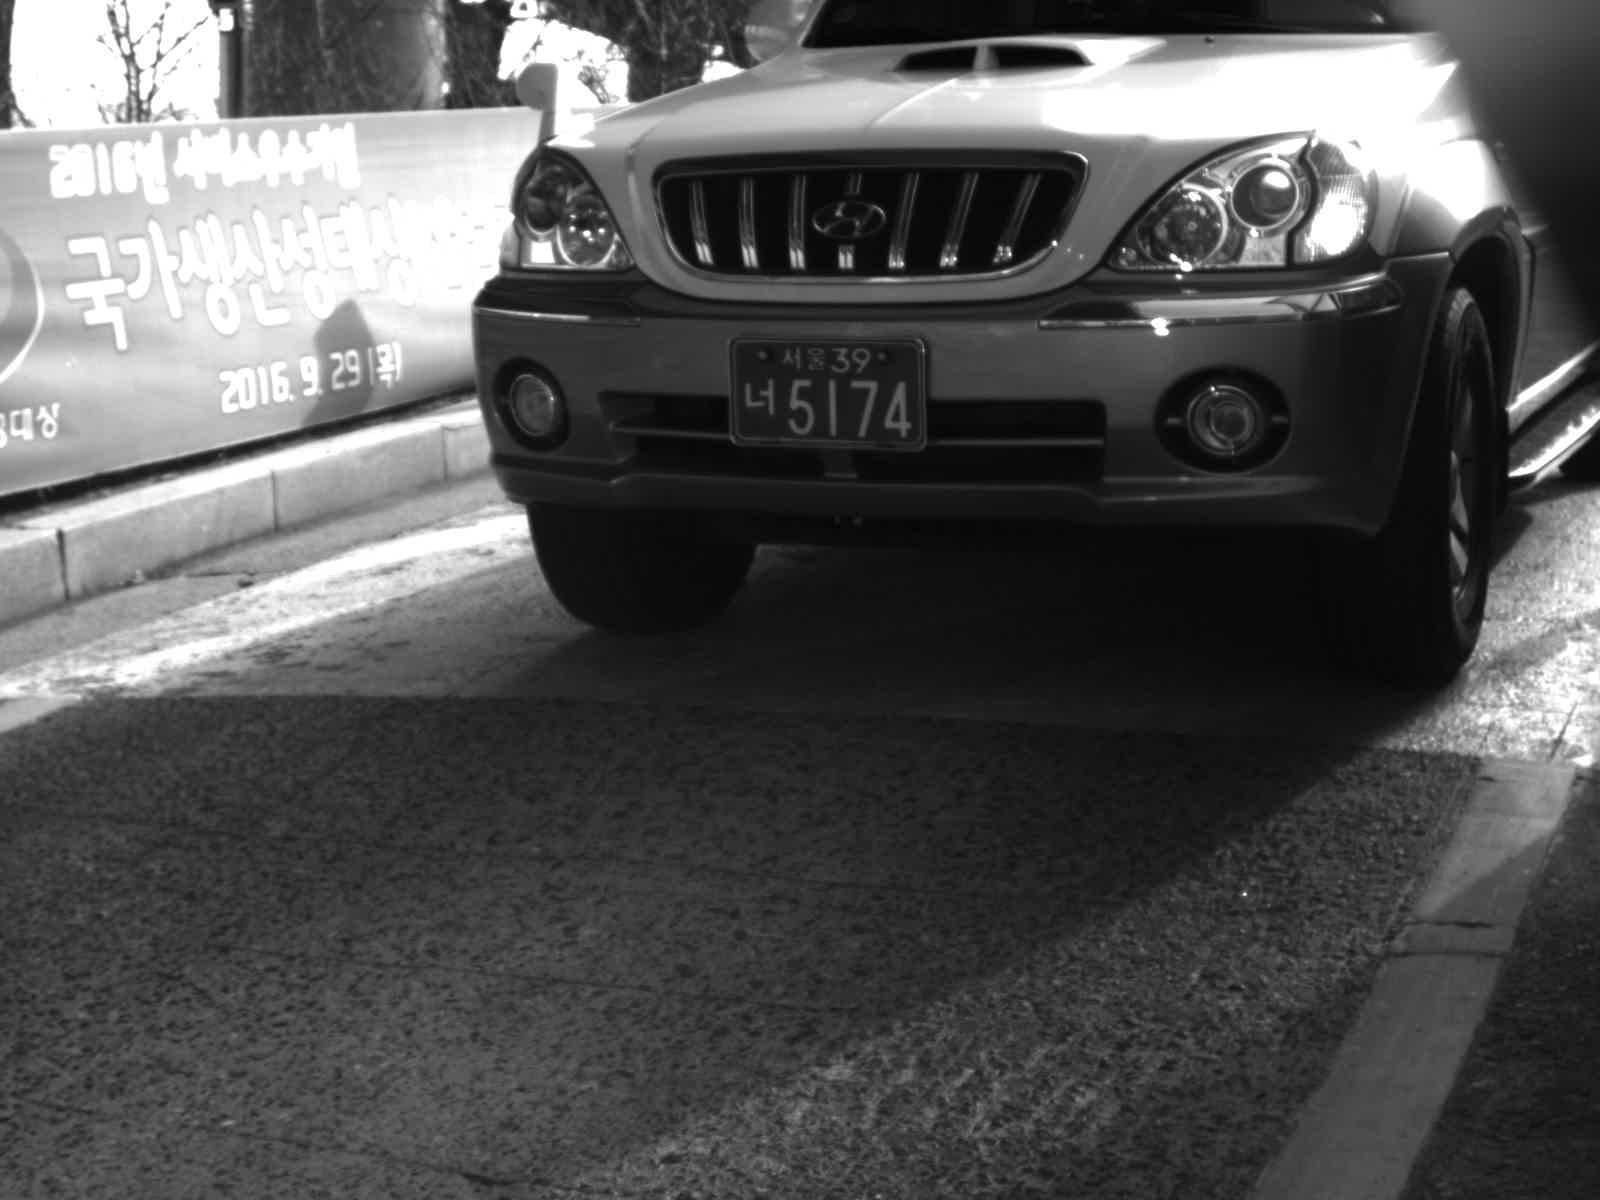P5_서울39너5174: (730, 330, 931, 450)
너: (745, 378, 777, 418)
서울: (777, 339, 827, 378)
